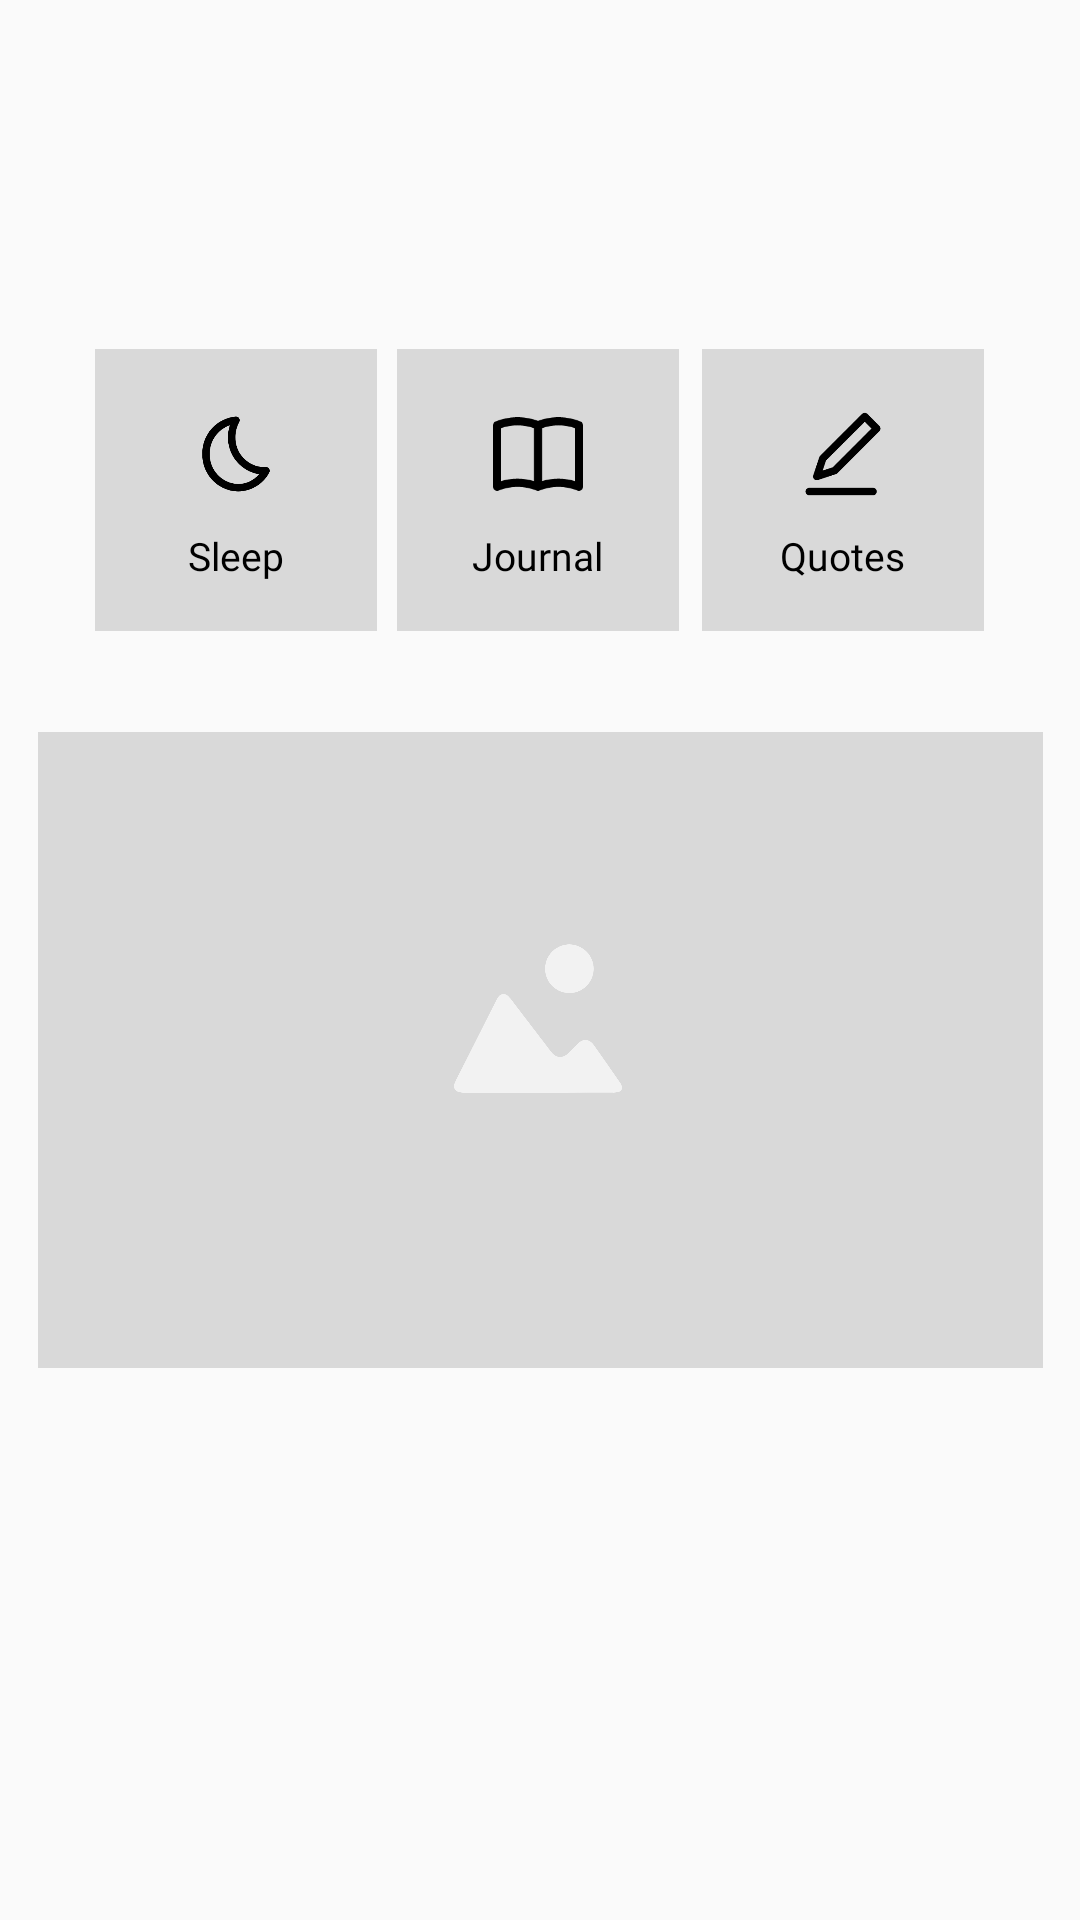

Icon click points for this 1080w x 1920h phone screenshot, format (x,y):
photo: (538,1018)
